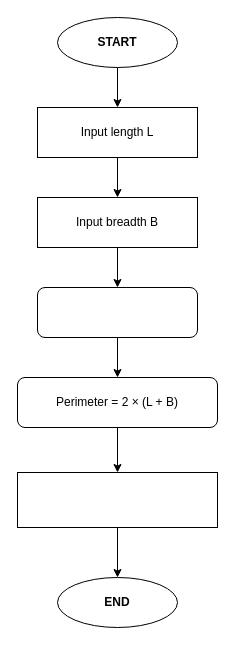
Some shapes in this 235 by 645 pixel diagram are drawn without their labels. The centre of each missing label's shape, as x and y in pixels:
"Area = L × B" goes at (x=117, y=312).
"Display Area and Perimeter" goes at (x=117, y=500).
